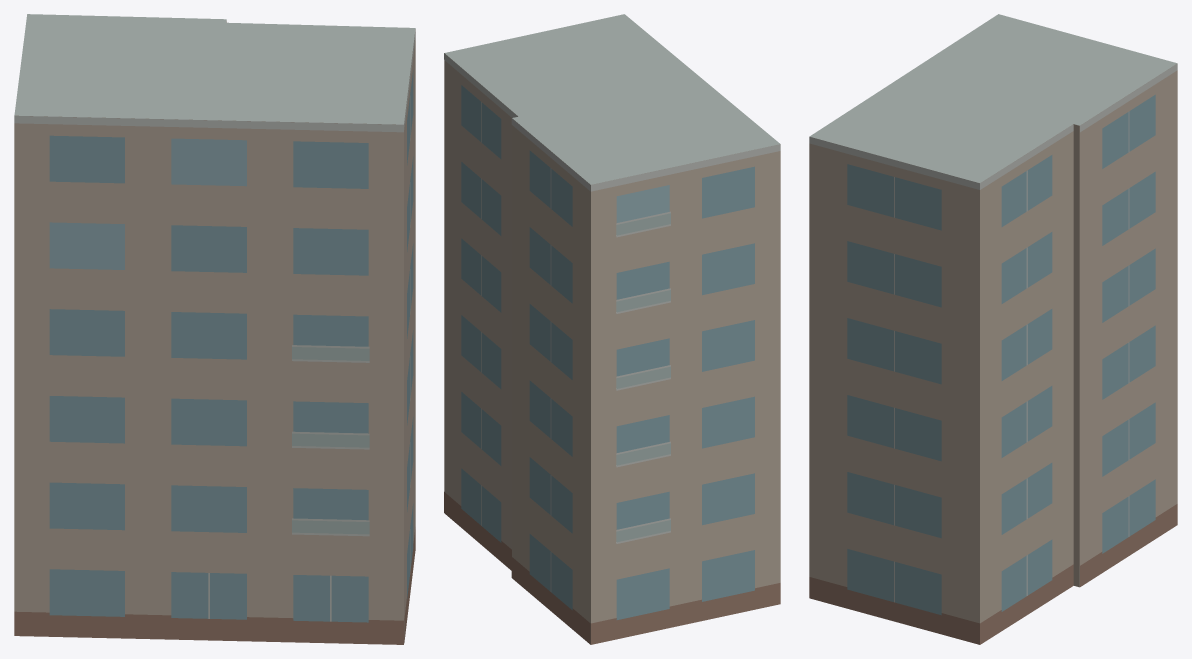
File: survey-upis-32482158.glb
The picture shows the model from 3 angles, left to right: view 1: azimuth 30°, elevation 25°; view 2: azimuth 150°, elevation 25°; view 3: azimuth 270°, elevation 25°; orthographic projection. The views are drawn at different scales.
Parts seen in each view (by area): view 1: survey-upis-32482158.tmp; view 2: survey-upis-32482158.tmp; view 3: survey-upis-32482158.tmp.
Part boxes in pixels (x1,y1,x2,y2): survey-upis-32482158.tmp: [14, 14, 415, 644]; survey-upis-32482158.tmp: [444, 14, 780, 644]; survey-upis-32482158.tmp: [809, 14, 1177, 644].
Size of the model in its own units: 12.98 by 16.5 by 11.94.
